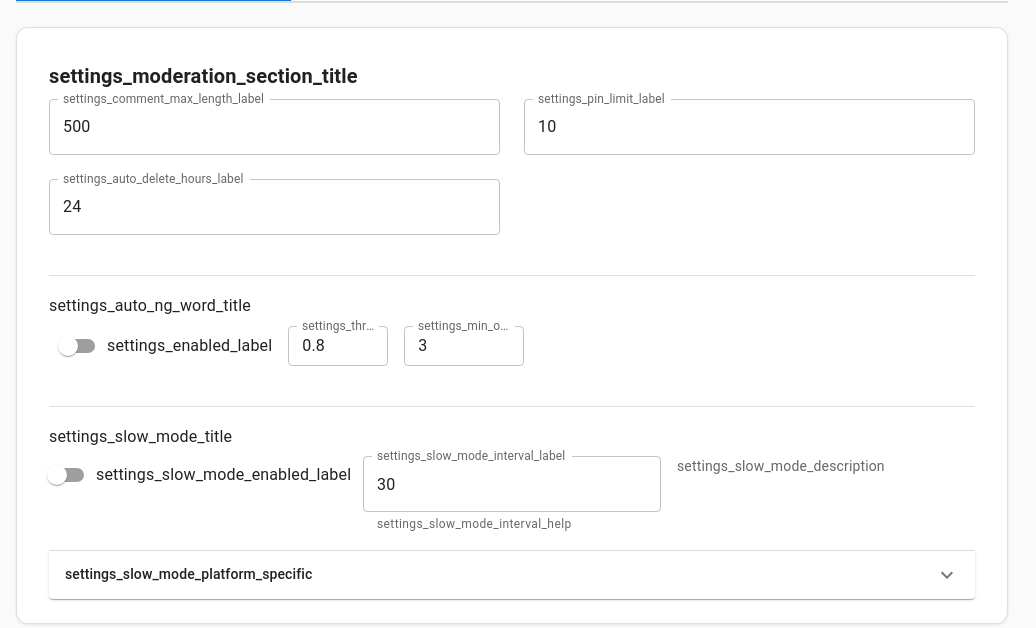
Test: スローモード設定が「実際に効く場所」に保存されること › 保存に失敗したら、成功したように見せない
(page scrolled)
Click the checkbox labelled "settings_slow_mode_enabled_label": (199, 475) x1=47 y1=465 x2=351 y2=485
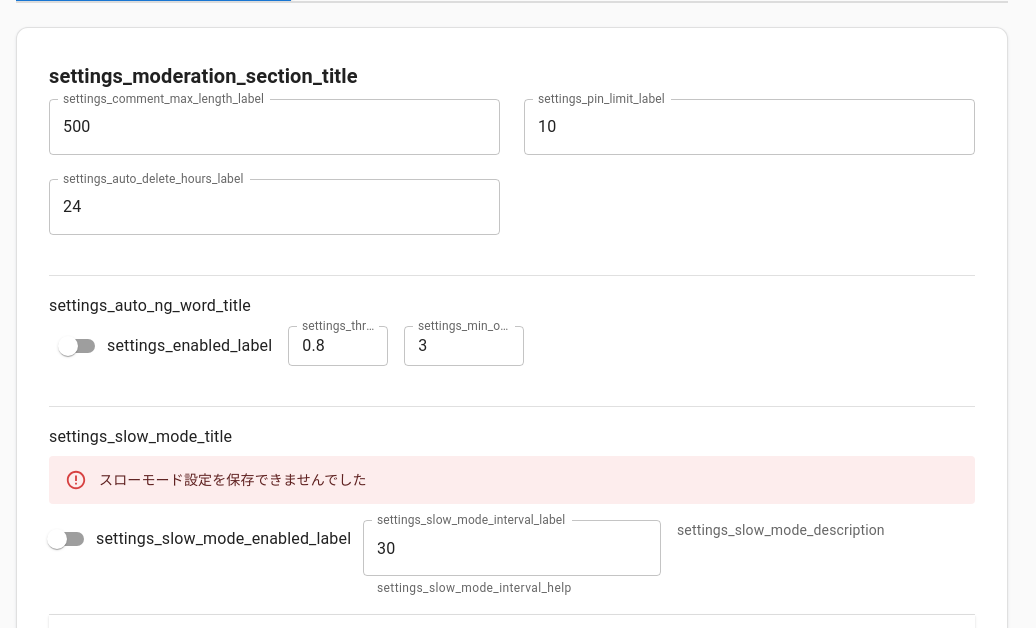
expect the text "スローモード設定を保存できませんでした" is shown: met, box x1=99 y1=472 x2=367 y2=488
